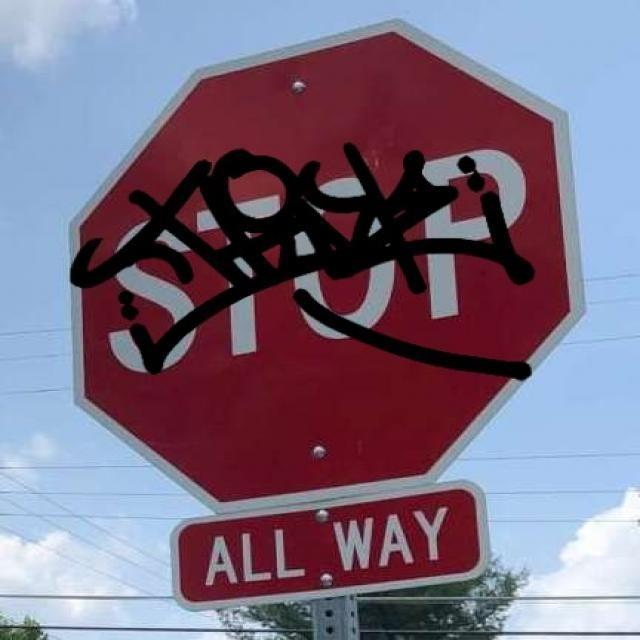Stop-Sign: (86, 30, 572, 485)
